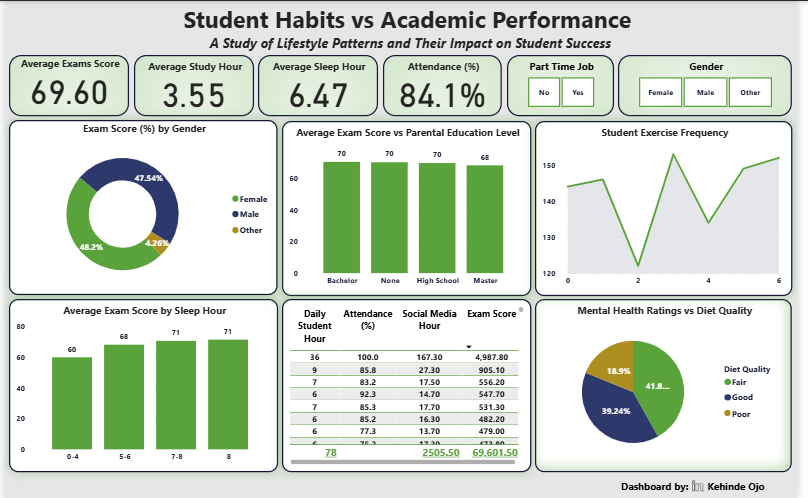

This screenshot's page, from the dashboard's own definition file:
{"tool":"powerbi","page":{"name":"Dashboard","canvas":[1280,805],"ordinal":0},"visuals":[{"type":"card","title":"Average Exams Score","fields":{"Values":["Avg(student_habits_performance.exam_score)"]},"box":[6.5,87.3,194,99],"z":0},{"type":"card","title":"Average Study Hour","fields":{"Values":["Avg(student_habits_performance.study_hours_per_day)"]},"box":[208.5,87.3,194,99],"z":1000},{"type":"card","title":"Average Sleep Hour","fields":{"Values":["Avg(student_habits_performance.sleep_hours)"]},"box":[409,87.3,194,99],"z":2000},{"type":"card","title":"Attendance (%)","fields":{"Values":["student_habits_performance.AttendancePercentage"]},"box":[611,87.3,192.4,99],"z":3000},{"type":"columnChart","title":"Average Exam Score by Sleep Hour","fields":{"Category":["student_habits_performance.SleepHourGroup"],"Y":["Avg(student_habits_performance.exam_score)"]},"box":[6,482,434.8,280],"z":4000},{"type":"pieChart","title":"Mental Health Ratings vs Diet Quality","fields":{"Category":["student_habits_performance.diet_quality"],"Y":["Sum(student_habits_performance.mental_health_rating)"]},"box":[856.7,481.7,415.4,279.6],"z":5000},{"type":"columnChart","title":"Average Exam Score vs Parental Education Level","fields":{"Category":["student_habits_performance.parental_education_level"],"Y":["Avg(student_habits_performance.exam_score)"]},"box":[448,194,403,282.9],"z":6000},{"type":"donutChart","title":"Exam Score (%) by Gender","fields":{"Category":["student_habits_performance.gender"],"Y":["Sum(student_habits_performance.exam_score)"]},"box":[6,192,434,282.9],"z":7000},{"type":"slicer","title":"Gender","fields":{"Values":["student_habits_performance.gender"]},"box":[990.9,87.3,281.3,99],"z":8000},{"type":"slicer","title":"Part Time Job","fields":{"Values":["student_habits_performance.part_time_job"]},"box":[811.5,87.3,173,99],"z":9000},{"type":"lineChart","title":"Student Exercise Frequency","fields":{"Category":["student_habits_performance.exercise_frequency"],"Y":["Count(student_habits_performance.student_id)"]},"box":[856.7,194,416,282.9],"z":10000},{"type":"textbox","box":[990.9,767.8,287.7,37.2],"z":11000},{"type":"textbox","box":[56.6,3.2,1197.8,84.1],"z":12000},{"type":"tableEx","title":"Average Exam Score vs Parental Education Level","fields":{"Values":["Count(student_habits_performance.study_hours_per_day)","student_habits_performance.attendance_percentage","Sum(student_habits_performance.social_media_hours)","Sum(student_habits_performance.exam_score)"]},"box":[447.8,481.7,402.5,279.6],"z":13000},{"type":"image","box":[1105,769,28,28],"z":14000}]}

Visuals, with their boxes in screenshot pixels (x1, y1, x2, y2), scaled from the page's 1280x805 canvas onto the 808x498 screenshot:
"Average Exams Score" card: 4/54/127/115
"Average Study Hour" card: 132/54/254/115
"Average Sleep Hour" card: 258/54/381/115
"Attendance (%)" card: 386/54/507/115
"Average Exam Score by Sleep Hour" columnChart: 4/298/278/471
"Mental Health Ratings vs Diet Quality" pieChart: 541/298/803/471
"Average Exam Score vs Parental Education Level" columnChart: 283/120/537/295
"Exam Score (%) by Gender" donutChart: 4/119/278/294
"Gender" slicer: 626/54/803/115
"Part Time Job" slicer: 512/54/621/115
"Student Exercise Frequency" lineChart: 541/120/803/295
textbox: 626/475/807/497
textbox: 36/2/792/54
"Average Exam Score vs Parental Education Level" tableEx: 283/298/537/471
image: 698/476/715/493
